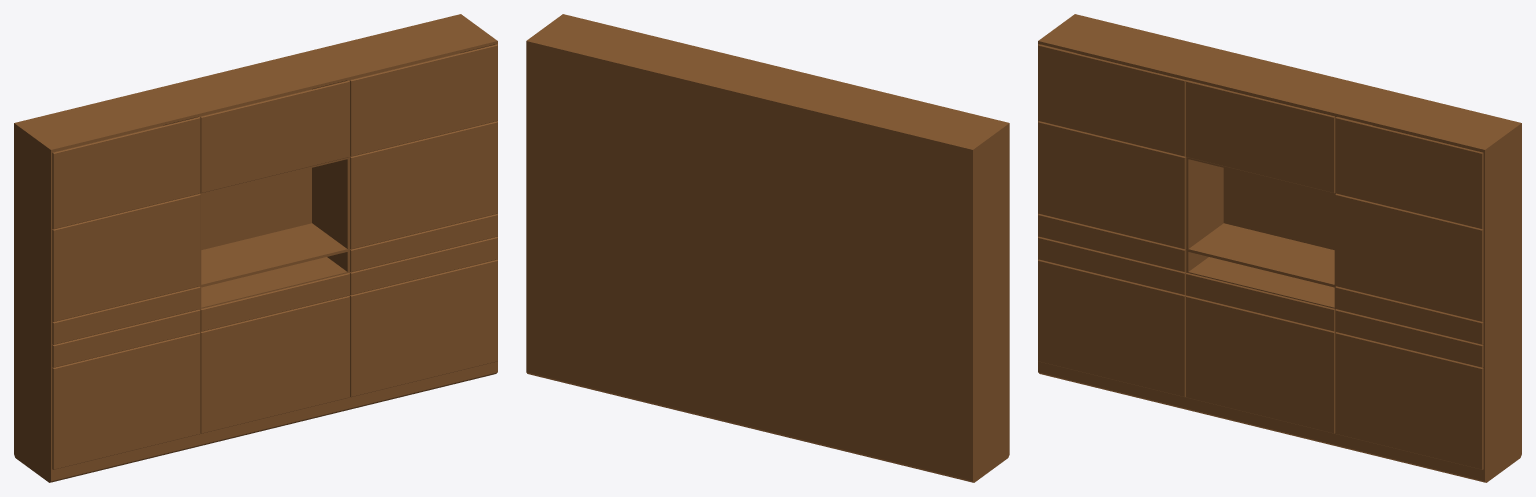
The model's file is Locker_wall.fbx.
The picture shows the model from 3 angles, left to right: view 1: azimuth 30°, elevation 25°; view 2: azimuth 150°, elevation 25°; view 3: azimuth 330°, elevation 25°; orthographic projection.
Parts seen in each view (by area): view 1: Locker_Wall, Door_2, Door_1, Door_3, Door_9, Door_10, Door_12, Door_11, Door_13, Door_5, Door_7, Door_4 (+2 smaller); view 2: Locker_Wall; view 3: Locker_Wall, Door_2, Door_3, Door_1, Door_9, Door_10, Door_12, Door_13, Door_11, Door_5, Door_7, Door_8 (+2 smaller).
Boxes of the visible parts, x1=… form: Locker_Wall: x1=14, y1=14, x2=497, y2=482; Door_2: x1=200, y1=296, x2=349, y2=433; Door_1: x1=52, y1=332, x2=200, y2=469; Door_3: x1=350, y1=259, x2=497, y2=397; Door_9: x1=52, y1=193, x2=200, y2=321; Door_10: x1=350, y1=121, x2=497, y2=249; Door_12: x1=200, y1=80, x2=349, y2=193; Door_11: x1=52, y1=117, x2=200, y2=229; Door_13: x1=350, y1=44, x2=497, y2=156; Door_5: x1=200, y1=273, x2=349, y2=331; Door_7: x1=52, y1=286, x2=200, y2=344; Door_4: x1=52, y1=309, x2=200, y2=367; Locker_Wall: x1=526, y1=14, x2=1009, y2=482; Locker_Wall: x1=1038, y1=14, x2=1521, y2=482; Door_2: x1=1186, y1=295, x2=1335, y2=433; Door_3: x1=1335, y1=332, x2=1483, y2=469; Door_1: x1=1038, y1=259, x2=1185, y2=397; Door_9: x1=1038, y1=121, x2=1186, y2=249; Door_10: x1=1335, y1=193, x2=1483, y2=321; Door_12: x1=1186, y1=80, x2=1335, y2=193; Door_13: x1=1335, y1=117, x2=1483, y2=229; Door_11: x1=1038, y1=44, x2=1186, y2=156; Door_5: x1=1186, y1=272, x2=1335, y2=331; Door_7: x1=1038, y1=214, x2=1186, y2=272; Door_8: x1=1335, y1=286, x2=1483, y2=344.
Bounding box in the file's own units: 350 × 250 × 51.95.
